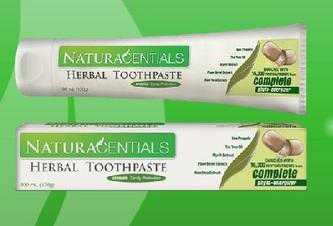toothpaste: (12, 24, 316, 118)
